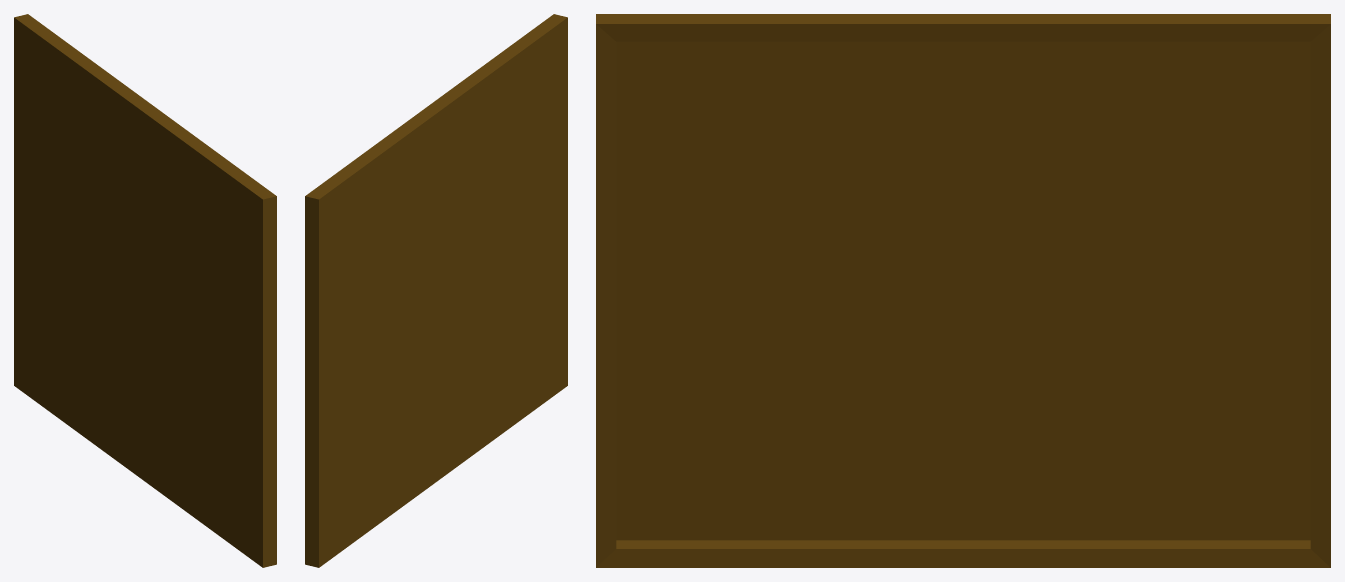
Rendered from pictureframe03.gltf.
3 renders of one model, left to right at view 1: azimuth 30°, elevation 25°; view 2: azimuth 150°, elevation 25°; view 3: azimuth 270°, elevation 25°, orthographic. The views are drawn at different scales.
Parts seen in each view (by area): view 1: Cube; view 2: Cube; view 3: Cube.
Part boxes in pixels (box(x1,y1,x2,y2)): Cube: box(14, 14, 276, 567); Cube: box(305, 14, 567, 567); Cube: box(596, 14, 1330, 567).
Bounding box in the file's own units: 0.02 × 0.5055 × 0.6191.
Materials: 1 (1 with a texture image).
